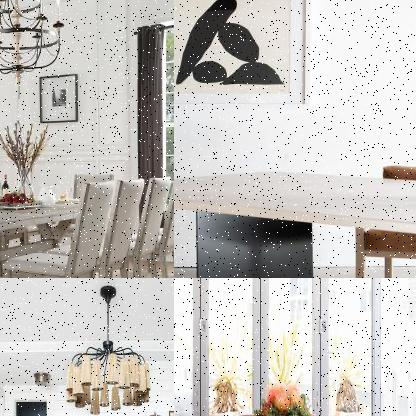table: (174, 164, 415, 277), (0, 200, 145, 277)
